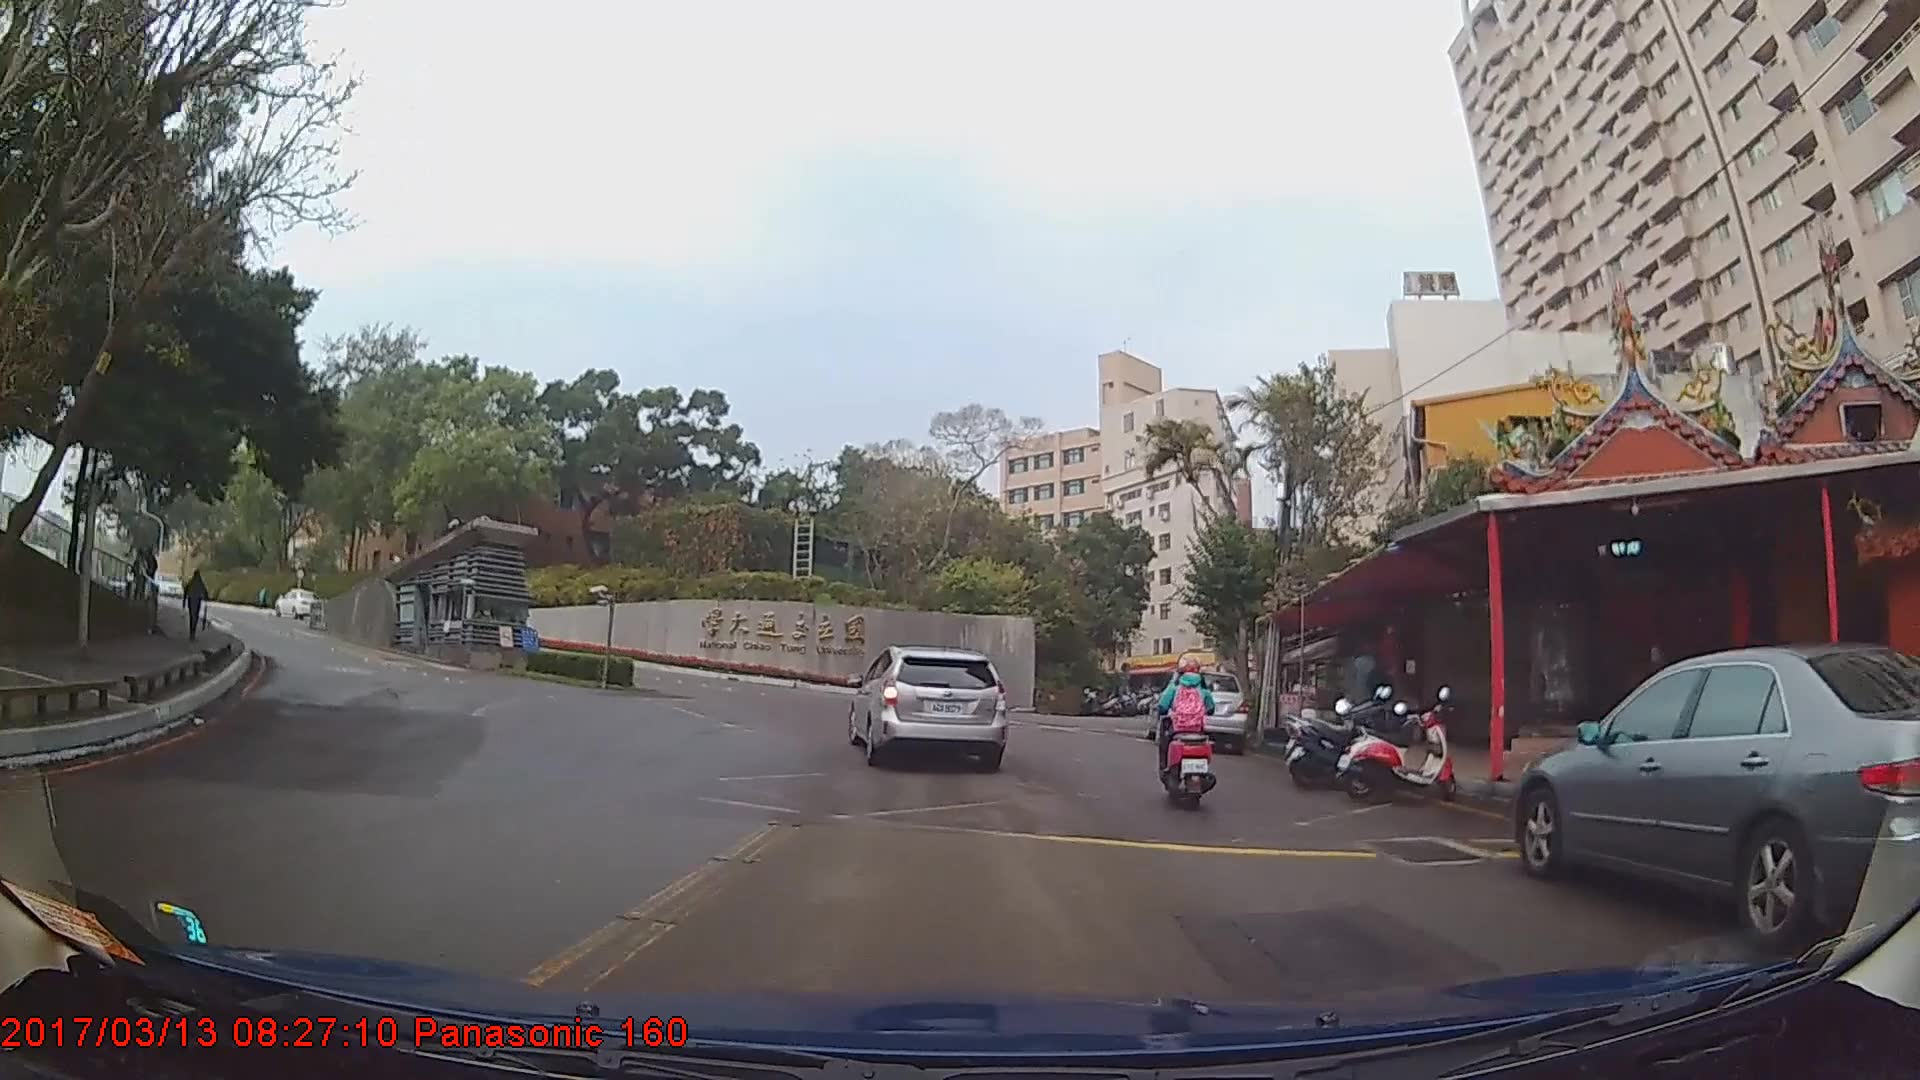pedestrian: (1361, 649, 1399, 747), (182, 571, 209, 643), (132, 543, 152, 605), (143, 546, 163, 601)
rider: (1150, 650, 1224, 811)
vehicle: (1518, 640, 1920, 955), (847, 643, 1005, 770), (1145, 666, 1247, 750), (275, 588, 322, 618)
